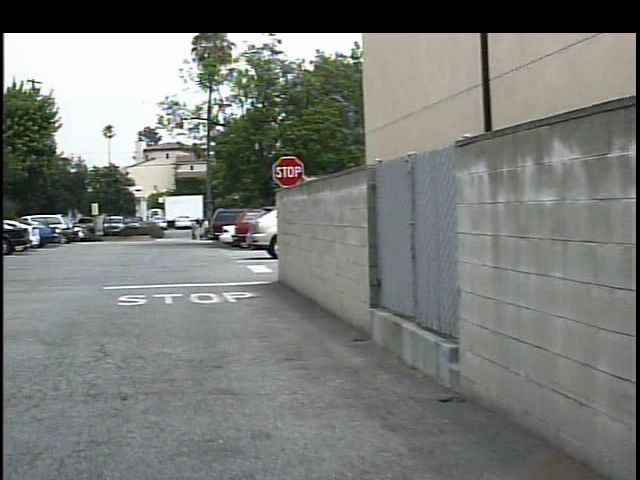person: (180, 216, 194, 243), (192, 217, 205, 243)
